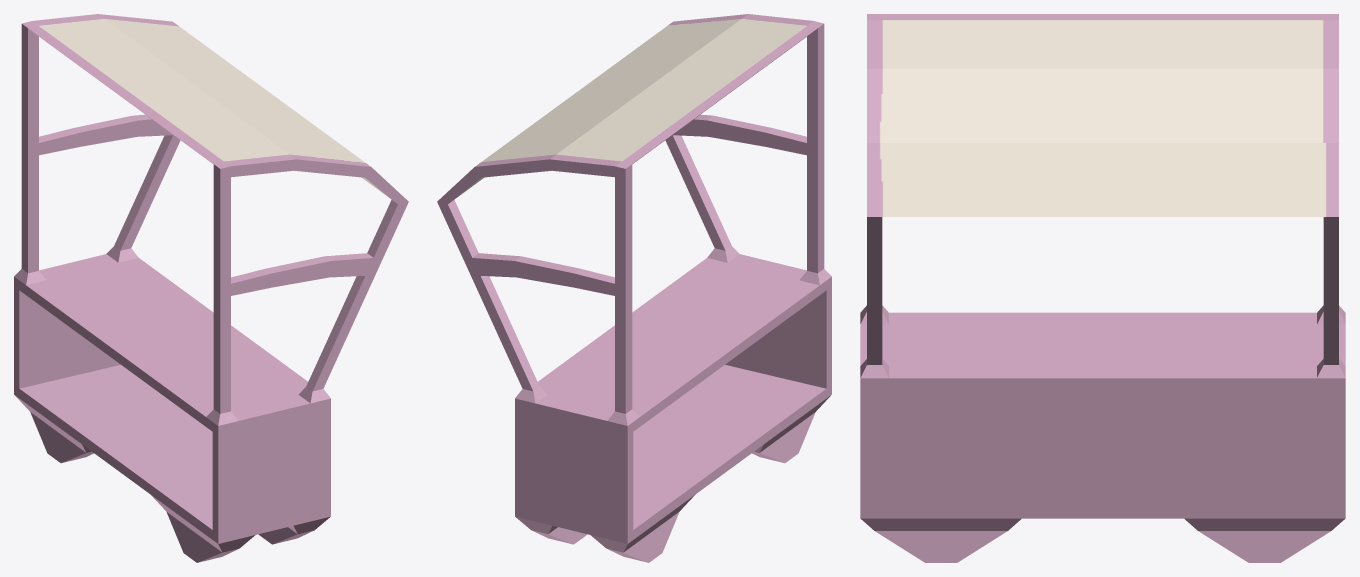
File: MarketStall.fbx
3 renders of one model, left to right at view 1: azimuth 30°, elevation 25°; view 2: azimuth 150°, elevation 25°; view 3: azimuth 270°, elevation 25°, orthographic. The views are drawn at different scales.
Parts seen in each view (by area): view 1: MarketStall; view 2: MarketStall; view 3: MarketStall.
Boxes of the visible parts, x1=… form: MarketStall: x1=14, y1=14, x2=408, y2=562; MarketStall: x1=437, y1=14, x2=831, y2=562; MarketStall: x1=860, y1=14, x2=1345, y2=562.
Bounding box in the file's own units: 3.43 × 6.98 × 6.27.
1 material, 1 textured.
